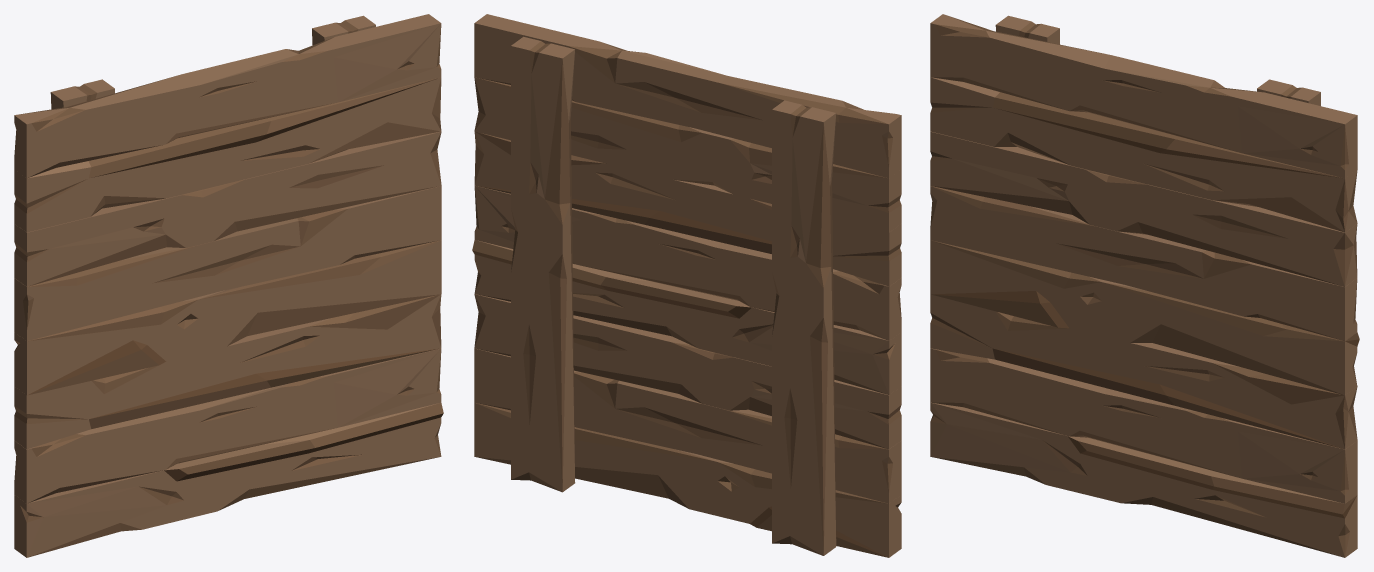
File: mesh_plank_wall.fbx
The picture shows the model from 3 angles, left to right: view 1: azimuth 30°, elevation 25°; view 2: azimuth 150°, elevation 25°; view 3: azimuth 330°, elevation 25°; orthographic projection.
Visible parts, largest first — view 1: mesh_plank_wall; view 2: mesh_plank_wall; view 3: mesh_plank_wall.
Part boxes in pixels (x1,y1,x2,y2): mesh_plank_wall: (14, 14, 443, 557); mesh_plank_wall: (472, 14, 901, 557); mesh_plank_wall: (930, 14, 1359, 557).
Bounding box in the file's own units: 2 × 2 × 0.245.
